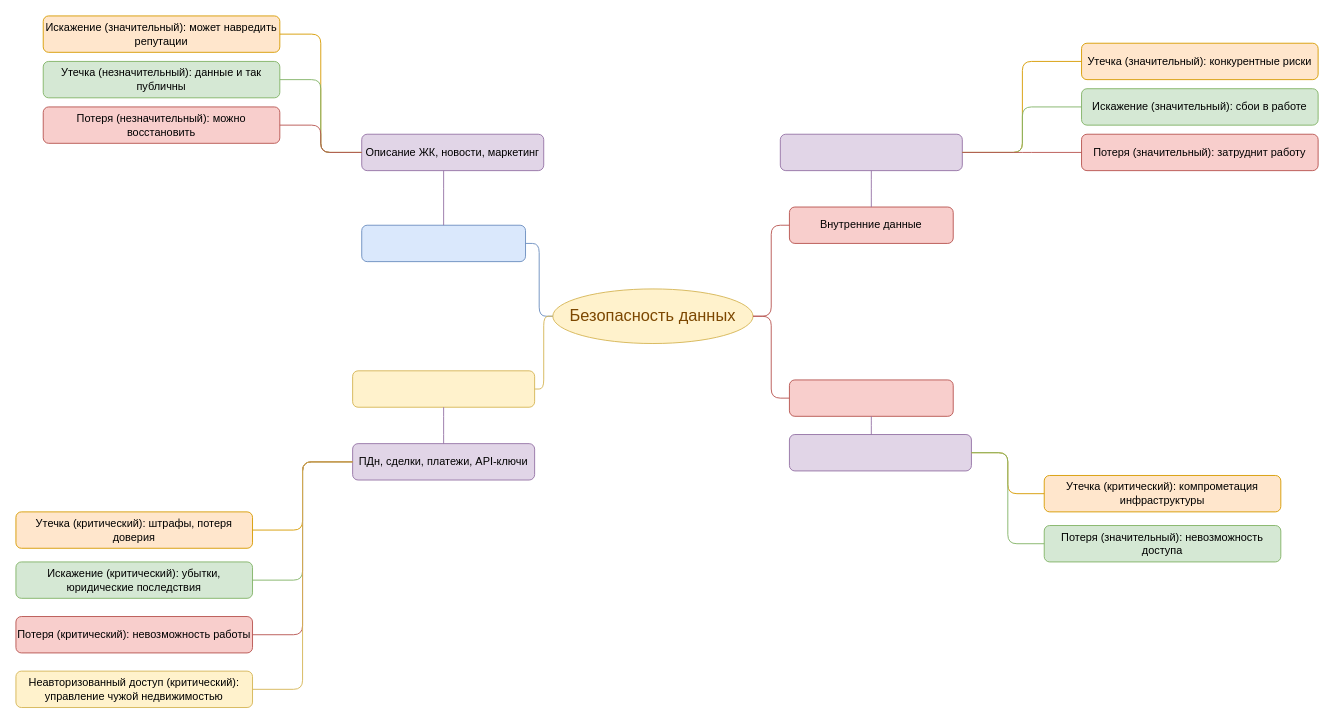
The diagram is 1334 pixels wide and 723 high, and some of its shapes have lost their labels. Here are the shapes that lost their labels. From the top down, the box of each, then its label:
(779, 133, 962, 171): Документация, процессы, переписка
(361, 224, 526, 262): Публичные данные
(352, 370, 535, 407): Конфиденциальные данные
(789, 379, 953, 416): Секретные данные
(789, 434, 971, 471): Ключи, пароли, коммерческая тайна
